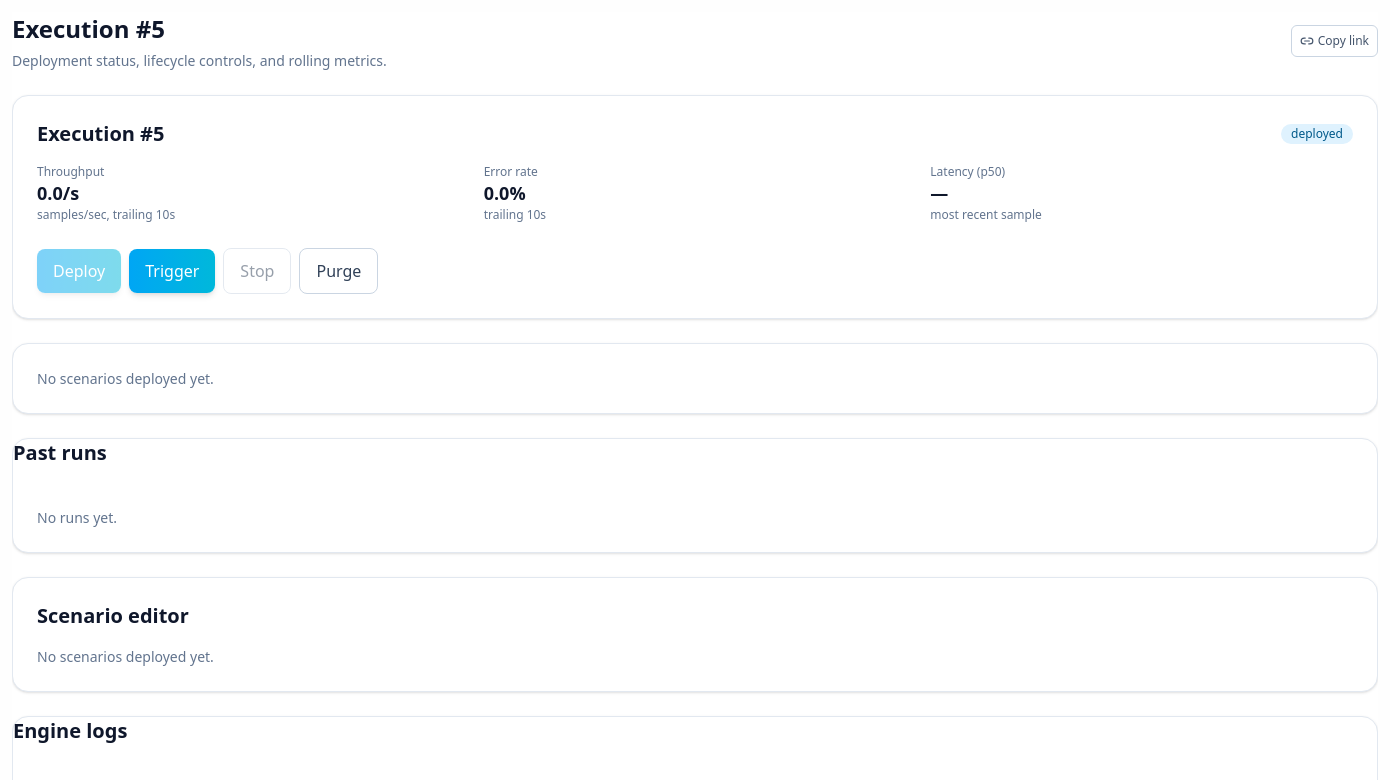
Test: Execution action-error details (mounted) › renders a 409 with details (engines finished) as message plus hint line
Step 1. Click the button "Trigger" → (172, 271), box [129,249,215,293]
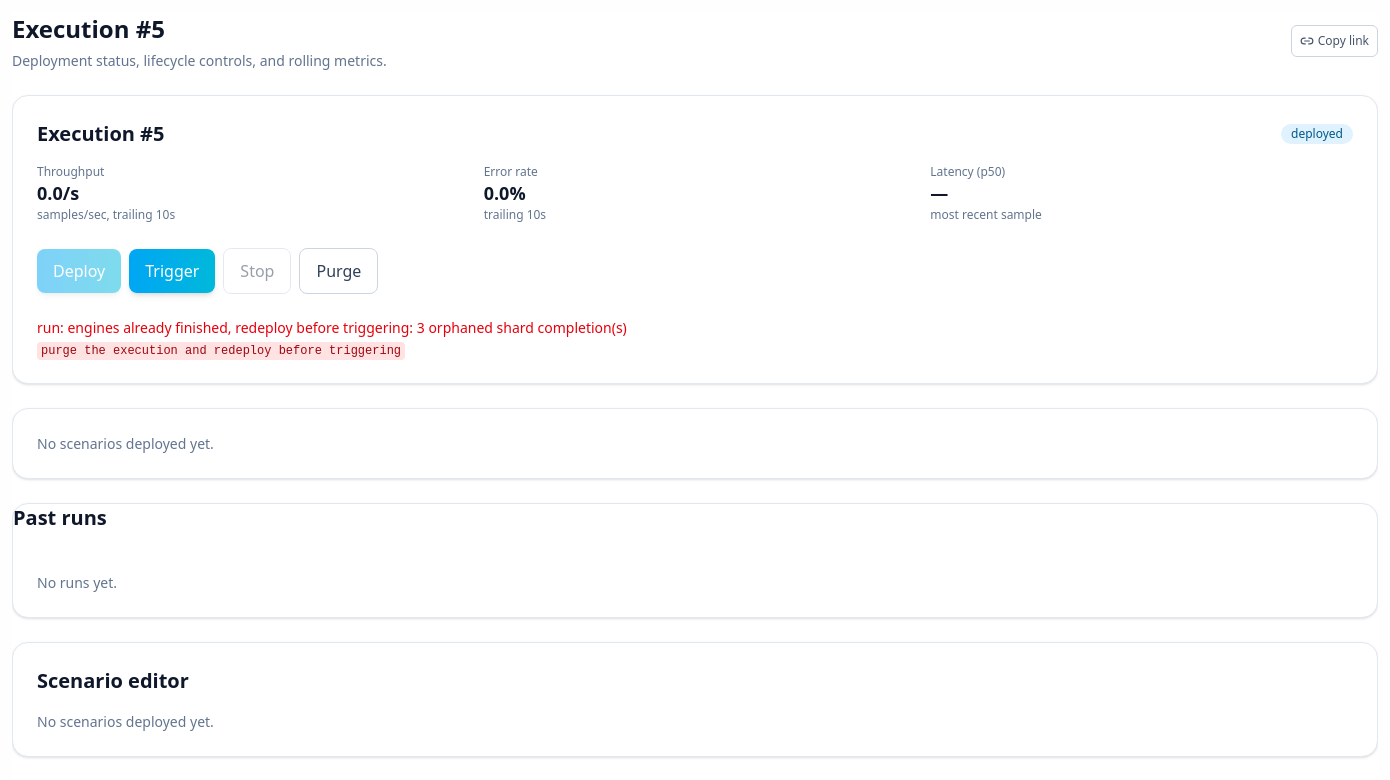
Check: the message shows "engines already finished", box [37,318,627,337]
Check: the text "purge the execution and redeploy before triggering" is shown, box [37,342,405,360]
